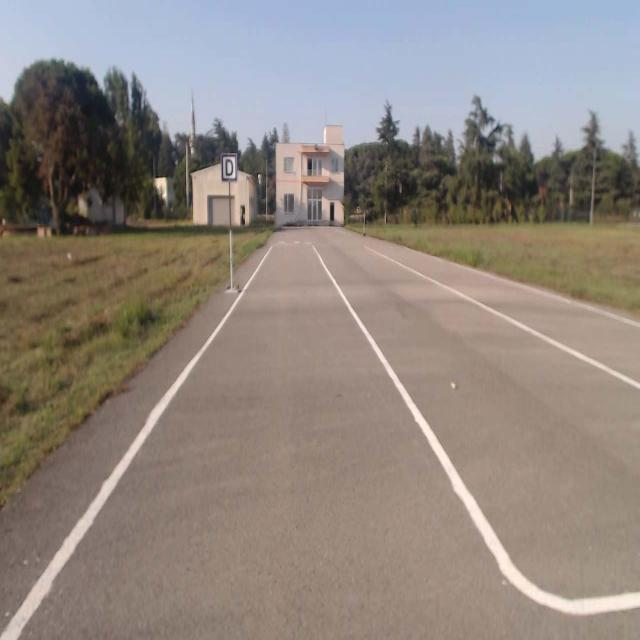durak: (222, 150, 236, 182)
